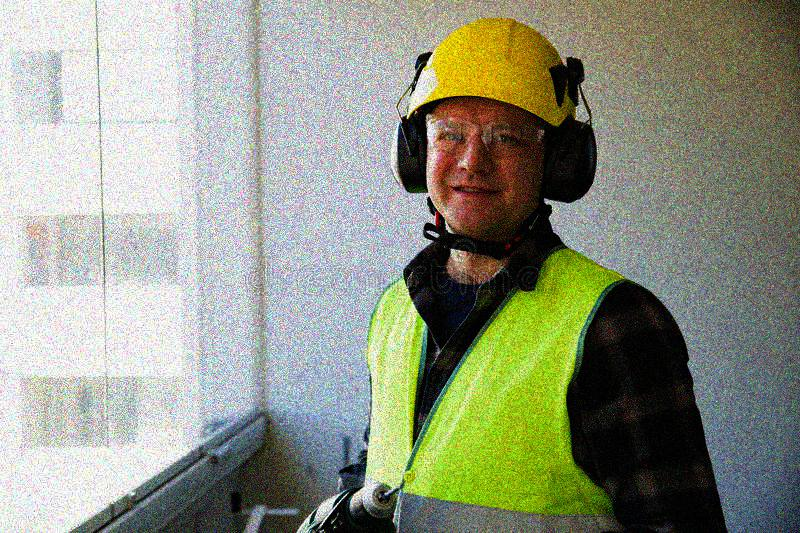helmet: (408, 16, 578, 241)
